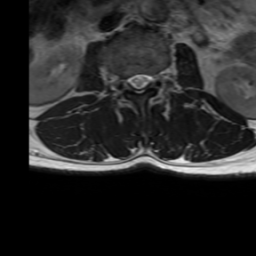CCS_normal: (135, 66, 142, 99)
LFS_normal: (151, 64, 160, 95)
LLS_normal: (142, 66, 151, 93)
RFS_normal: (117, 69, 126, 97)
RLS_stenosis: (126, 69, 135, 94)
